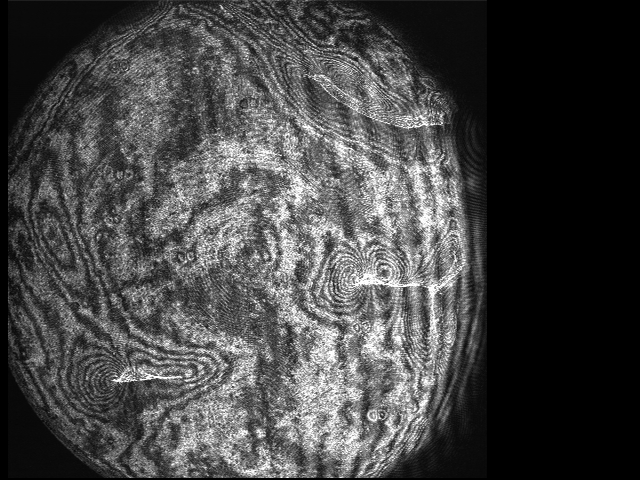plume: (55, 337, 213, 416), (299, 244, 418, 326)
